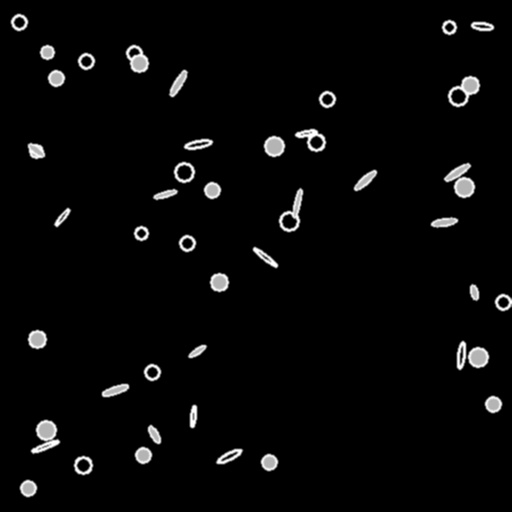pseudomonas: (443, 161, 471, 183), (168, 69, 188, 97), (353, 169, 377, 191), (253, 246, 277, 268), (215, 447, 243, 465), (31, 438, 59, 454), (101, 383, 129, 397), (291, 188, 303, 218), (27, 142, 45, 158), (54, 208, 70, 226), (147, 424, 161, 444), (185, 139, 211, 149), (456, 342, 466, 368), (188, 344, 206, 358), (432, 217, 456, 227), (154, 189, 176, 199), (471, 22, 493, 30), (296, 129, 316, 137), (469, 284, 479, 300), (189, 406, 197, 426)
synechocystis: (265, 137, 283, 155), (175, 163, 193, 181), (455, 178, 473, 196), (449, 87, 467, 105), (280, 212, 298, 230), (37, 421, 55, 439), (469, 348, 487, 366), (29, 331, 45, 347), (75, 457, 91, 473), (308, 134, 324, 150), (211, 274, 227, 290), (131, 55, 147, 71), (462, 77, 478, 93), (486, 397, 500, 411), (21, 481, 35, 495), (496, 295, 510, 309), (262, 455, 276, 469), (205, 183, 219, 197), (136, 448, 150, 462), (180, 236, 194, 250), (12, 15, 26, 29), (320, 92, 334, 106), (127, 46, 141, 60), (49, 71, 63, 85), (79, 54, 93, 68), (145, 365, 159, 379), (30, 145, 42, 157), (443, 21, 455, 33), (41, 46, 53, 58), (135, 227, 147, 239)
